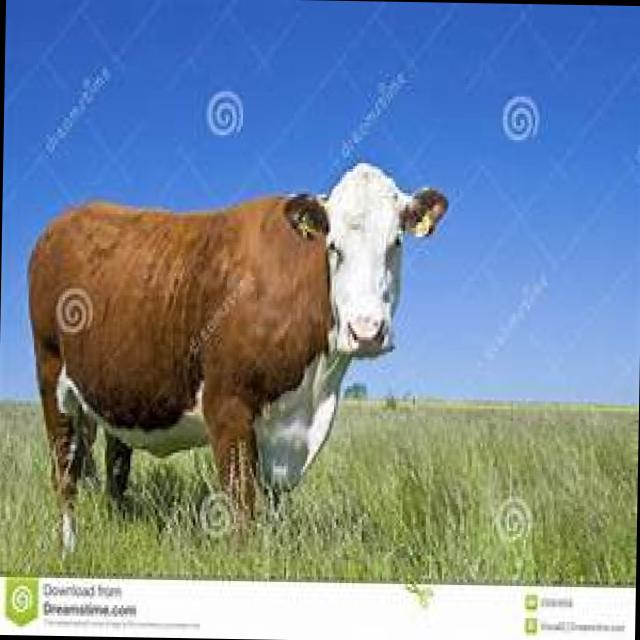animal: (19, 154, 449, 567)
